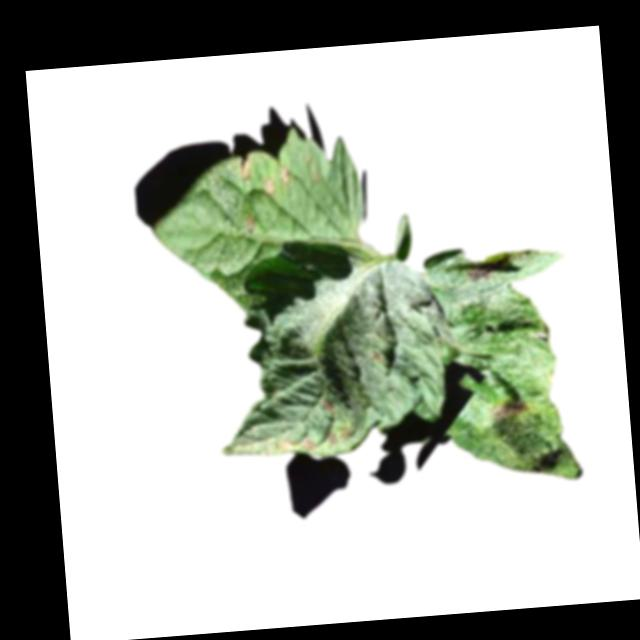Early_blight: (490, 400, 532, 424), (461, 265, 491, 287), (237, 152, 254, 182), (242, 212, 256, 234), (278, 167, 294, 184), (264, 176, 277, 196), (319, 397, 334, 413), (338, 427, 352, 444), (302, 436, 315, 451), (326, 431, 338, 447)
